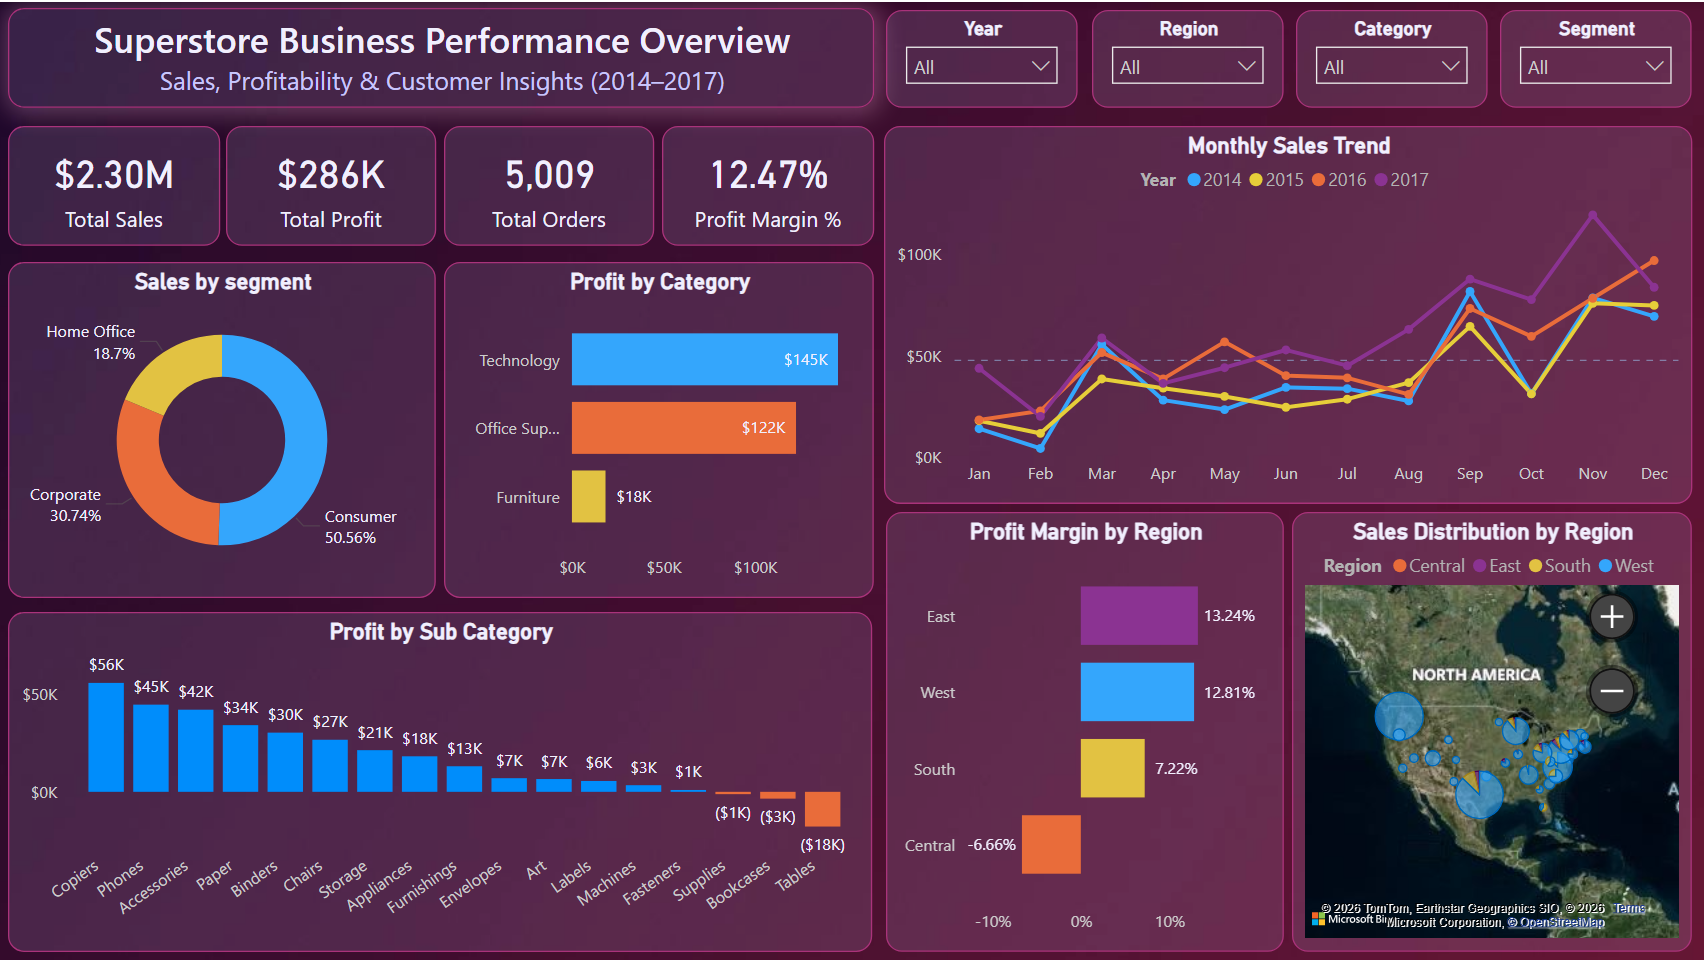

The dashboard page shown, as its layout file describes it:
{"tool":"powerbi","page":{"name":"Executive Dashboard","canvas":[1280,720],"ordinal":0},"visuals":[{"type":"textbox","title":"Superstore Business Performance Overview","box":[6,4.5,650.9,75.2],"z":0},{"type":"card","fields":{"Values":["Measures (2).Total Sales"]},"box":[6,93.2,159.3,90.2],"z":1000},{"type":"card","fields":{"Values":["Measures (2).Total Profit"]},"box":[169.9,93.2,157.8,90.2],"z":2000},{"type":"card","fields":{"Values":["Measures (2).Total Orders"]},"box":[333.7,93.2,157.8,90.2],"z":3000},{"type":"card","fields":{"Values":["Measures (2).Profit Margin %"]},"box":[497.5,93.2,159.3,90.2],"z":4000},{"type":"lineChart","title":"Monthly Sales Trend","fields":{"Series":["Superstore_rawdata.year"],"Y":["Measures (2).Total Sales"],"Category":["Superstore_rawdata.month"]},"box":[664.4,93.2,607.3,284.1],"z":5000},{"type":"map","title":"Sales Distribution by Region","fields":{"Category":["Superstore_rawdata.state"],"Series":["Superstore_rawdata.region"],"Size":["Measures (2).Total Orders"]},"box":[971,383.3,300.6,330.7],"z":6000},{"type":"slicer","title":"Year","fields":{"Values":["Superstore_rawdata.year"]},"box":[666,6.1,143.9,73.5],"z":7000},{"type":"slicer","title":"Category","fields":{"Values":["Superstore_rawdata.category"]},"box":[973.8,6.1,143.9,73.5],"z":8000},{"type":"slicer","title":"Region","fields":{"Values":["Superstore_rawdata.region"]},"box":[820.7,6.1,143.9,73.5],"z":9000},{"type":"slicer","title":"Segment","fields":{"Values":["Superstore_rawdata.segment"]},"box":[1126.9,6.1,143.9,73.5],"z":10000},{"type":"clusteredBarChart","title":"Profit Margin by Region","fields":{"Category":["Superstore_rawdata.region"],"Y":["Measures (2).Profit Margin %"]},"box":[665.9,383.3,299.1,330.7],"z":11000},{"type":"donutChart","title":"Sales by segment","fields":{"Y":["Measures (2).Total Sales"],"Category":["Superstore_rawdata.segment"]},"box":[6,195.4,321.7,252.5],"z":12000},{"type":"clusteredBarChart","title":"Profit by Category","fields":{"Category":["Superstore_rawdata.category"],"Y":["Measures (2).Total Profit"]},"box":[333.7,195.4,323.2,252.5],"z":13000},{"type":"clusteredColumnChart","title":"Profit by Sub Category","fields":{"Category":["Superstore_rawdata.sub_category"],"Y":["Measures (2).Total Profit"]},"box":[6,458.5,649.4,255.5],"z":14000}]}

Visuals, with their boxes in screenshot pixels (x1, y1, x2, y2), scaled from the page's 1280x720 canvas onto the 1704x960 screenshot:
"Superstore Business Performance Overview" textbox: 8:6:874:106
card - Measures (2).Total Sales: 8:124:220:245
card - Measures (2).Total Profit: 226:124:436:245
card - Measures (2).Total Orders: 444:124:654:245
card - Measures (2).Profit Margin %: 662:124:874:245
"Monthly Sales Trend" lineChart: 884:124:1693:503
"Sales Distribution by Region" map: 1293:511:1693:952
"Year" slicer: 887:8:1078:106
"Category" slicer: 1296:8:1488:106
"Region" slicer: 1093:8:1284:106
"Segment" slicer: 1500:8:1692:106
"Profit Margin by Region" clusteredBarChart: 886:511:1285:952
"Sales by segment" donutChart: 8:261:436:597
"Profit by Category" clusteredBarChart: 444:261:874:597
"Profit by Sub Category" clusteredColumnChart: 8:611:873:952
